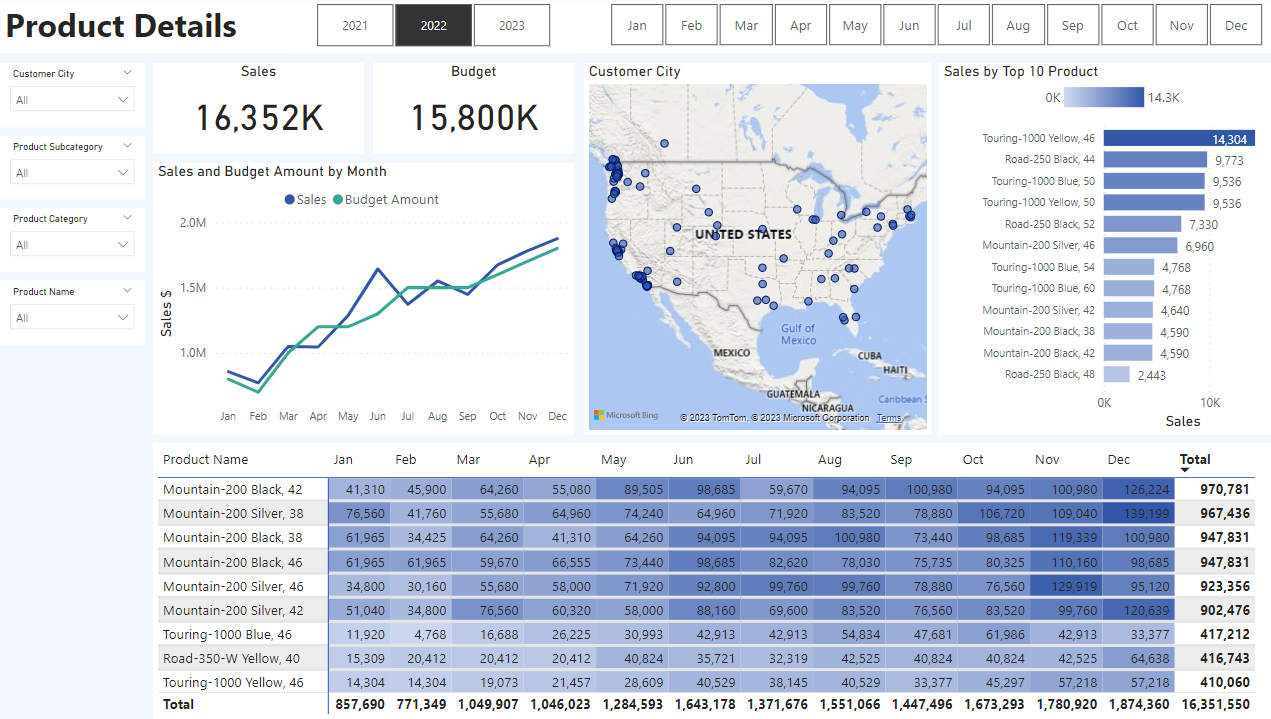

What the dashboard file says about the page in this screenshot:
{"tool":"powerbi","page":{"name":"Product Details","canvas":[1280,720],"ordinal":2},"visuals":[{"type":"textbox","box":[0,0,1280,55.6],"z":0},{"type":"slicer","fields":{"Values":["DIM_Customer.Customer City"]},"box":[0,65.5,143.6,63.6],"z":1000},{"type":"slicer","fields":{"Values":["DIM_Products.ProductSubcategory"]},"box":[0,138.2,143.6,62.7],"z":2000},{"type":"slicer","fields":{"Values":["DIM_Products.ProductCategory"]},"box":[0,210,143.6,63.6],"z":3000},{"type":"slicer","fields":{"Values":["DIM_Products.ProductName"]},"box":[0,282.7,143.6,63.6],"z":4000},{"type":"slicer","fields":{"Values":["DIM_Calender.Year"]},"box":[290,0,282,55.9],"z":5000},{"type":"lineChart","fields":{"Y":["Key Measures.Sales","Key Measures.Budget Amount"],"Category":["DIM_Calender.MonthShort"]},"box":[152.5,164.9,419.4,270.4],"z":6000},{"type":"slicer","fields":{"Values":["DIM_Calender.MonthShort"]},"box":[581.8,0,698.2,55.5],"z":7000},{"type":"barChart","title":"Sales by Top 10 Product","fields":{"Y":["Key Measures.Sales"],"Category":["DIM_Products.ProductName"]},"box":[935.1,65.6,344.9,369.8],"z":8000},{"type":"map","fields":{"Category":["DIM_Customer.Customer City"]},"box":[580.8,65.6,345.8,369.8],"z":9000},{"type":"kpi","title":"Sales","fields":{"Indicator":["Sum(Fact_InternetSales.SalesAmount)"],"TrendLine":["DIM_Calender.Year"]},"box":[152.5,65.6,210.1,90.4],"z":10000},{"type":"kpi","title":"Budget","fields":{"Indicator":["Sum(Fact_Budget.Budget)"],"TrendLine":["DIM_Calender.Year"]},"box":[371.5,65.6,200.4,90.4],"z":11000},{"type":"pivotTable","title":"Customer Sales","fields":{"Rows":["DIM_Products.ProductName"],"Values":["Key Measures.Sales"],"Columns":["DIM_Calender.MonthShort"]},"box":[152.5,444.2,1127,275],"z":12000}]}

Visuals, with their boxes in screenshot pixels (x1, y1, x2, y2), scaled from the page's 1280x720 canvas onto the 1271x719 screenshot:
textbox: bbox=(0, 0, 1270, 56)
slicer - DIM_Customer.Customer City: bbox=(0, 65, 143, 129)
slicer - DIM_Products.ProductSubcategory: bbox=(0, 138, 143, 201)
slicer - DIM_Products.ProductCategory: bbox=(0, 210, 143, 273)
slicer - DIM_Products.ProductName: bbox=(0, 282, 143, 346)
slicer - DIM_Calender.Year: bbox=(288, 0, 568, 56)
lineChart - Key Measures.Sales x Key Measures.Budget Amount: bbox=(151, 165, 568, 435)
slicer - DIM_Calender.MonthShort: bbox=(578, 0, 1270, 55)
"Sales by Top 10 Product" barChart: bbox=(929, 66, 1270, 435)
map - DIM_Customer.Customer City: bbox=(577, 66, 920, 435)
"Sales" kpi: bbox=(151, 66, 360, 156)
"Budget" kpi: bbox=(369, 66, 568, 156)
"Customer Sales" pivotTable: bbox=(151, 444, 1270, 718)
